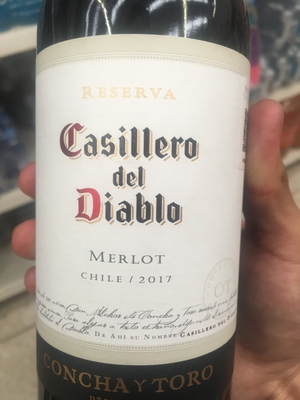casillero del diablo merlot: (30, 3, 252, 400)
